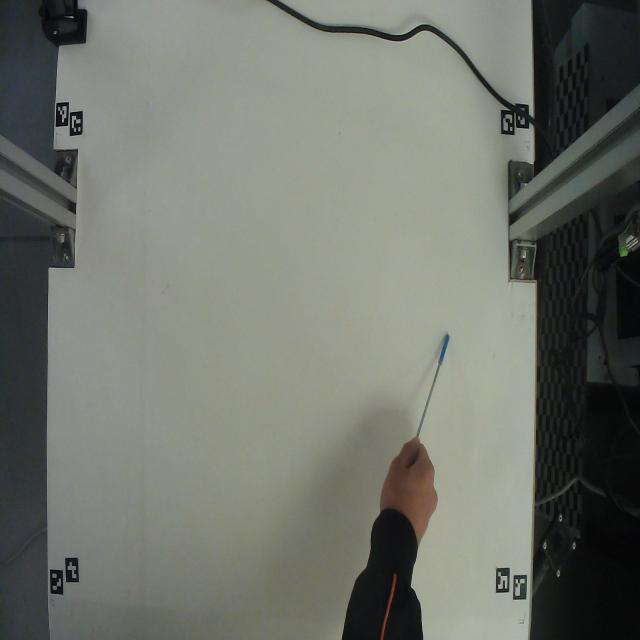Pres: (406, 317, 457, 448)
